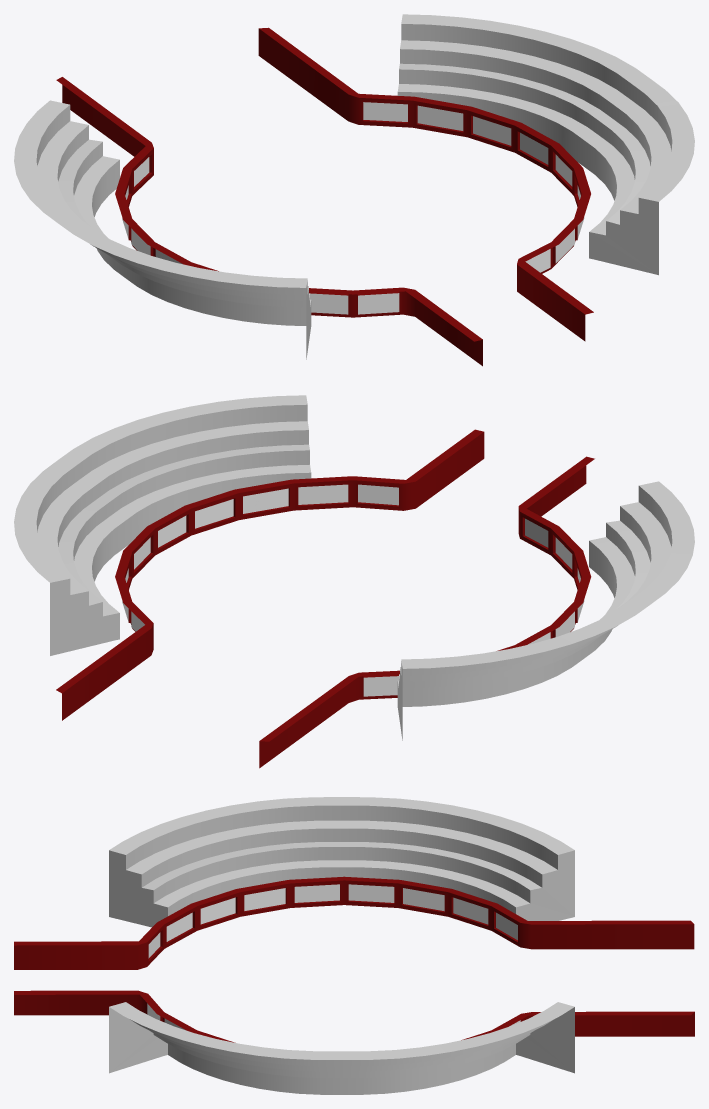
File: BarrierAndStands.fbx
3 views of the same model, one above another, from view 1: azimuth 30°, elevation 25°; view 2: azimuth 150°, elevation 25°; view 3: azimuth 270°, elevation 25° (orthographic). The views are drawn at different scales.
Parts seen in each view (by area): view 1: Arc001, Barrier; view 2: Arc001, Barrier; view 3: Arc001, Barrier.
Part boxes in pixels (<box>): Arc001: <box>14,14,694,359</box>; Barrier: <box>56,27,593,366</box>; Arc001: <box>14,395,694,740</box>; Barrier: <box>56,429,594,768</box>; Arc001: <box>109,797,574,1094</box>; Barrier: <box>14,876,694,1042</box>.
Size of the model in its own units: 45.19 by 5.34 by 49.45.
